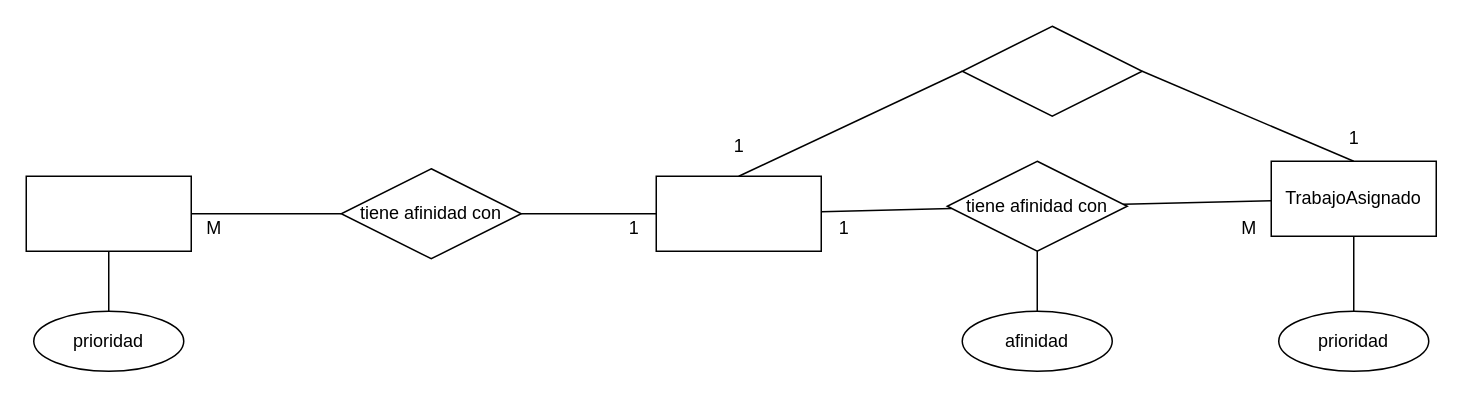
Image size: 1463x398. Some labels were removed from this diagram. The shapes that lost their labels are listed below. From the top down, each one's box as (x1, y1, x2, y2) in pixels, then its label:
(961, 25, 1142, 116): asignado a
(25, 175, 191, 251): TrabajoVacante
(655, 175, 821, 251): Agente
